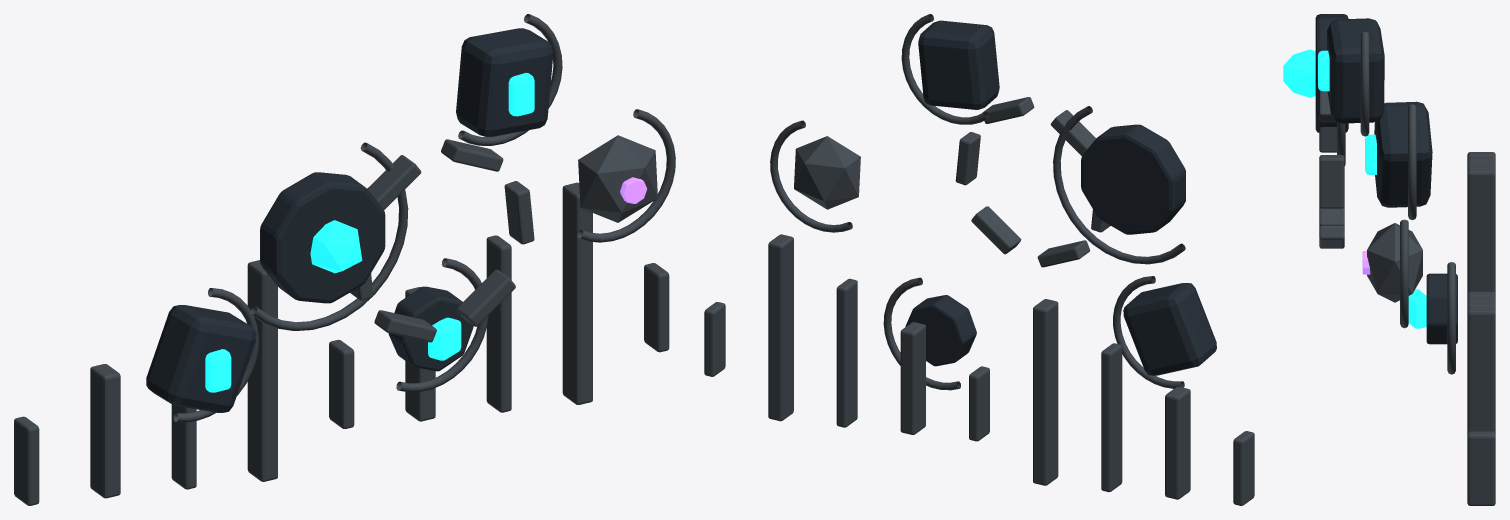
File: network-architecture.glb
The picture shows the model from 3 angles, left to right: view 1: azimuth 30°, elevation 25°; view 2: azimuth 150°, elevation 25°; view 3: azimuth 270°, elevation 25°; orthographic projection. The views are drawn at different scales.
Visible parts, largest first — view 1: BC_ENV_NETWORK_ARCHITECTURE_GUNMETAL, BC_ENV_NETWORK_ARCHITECTURE_BLACK_TITANIUM, BC_ENV_NETWORK_ARCHITECTURE_CYAN_ENERGY; view 2: BC_ENV_NETWORK_ARCHITECTURE_GUNMETAL, BC_ENV_NETWORK_ARCHITECTURE_BLACK_TITANIUM; view 3: BC_ENV_NETWORK_ARCHITECTURE_GUNMETAL, BC_ENV_NETWORK_ARCHITECTURE_BLACK_TITANIUM, BC_ENV_NETWORK_ARCHITECTURE_CYAN_ENERGY.
Part boxes in pixels (x1,y1,x2,y2): BC_ENV_NETWORK_ARCHITECTURE_GUNMETAL: [14, 14, 675, 505]; BC_ENV_NETWORK_ARCHITECTURE_BLACK_TITANIUM: [146, 28, 553, 412]; BC_ENV_NETWORK_ARCHITECTURE_CYAN_ENERGY: [205, 73, 534, 392]; BC_ENV_NETWORK_ARCHITECTURE_GUNMETAL: [704, 14, 1254, 505]; BC_ENV_NETWORK_ARCHITECTURE_BLACK_TITANIUM: [905, 20, 1216, 375]; BC_ENV_NETWORK_ARCHITECTURE_GUNMETAL: [1319, 32, 1495, 505]; BC_ENV_NETWORK_ARCHITECTURE_BLACK_TITANIUM: [1315, 14, 1457, 344]; BC_ENV_NETWORK_ARCHITECTURE_CYAN_ENERGY: [1283, 49, 1426, 328].
Size of the model in its own units: 8.56 by 5.85 by 2.7.
